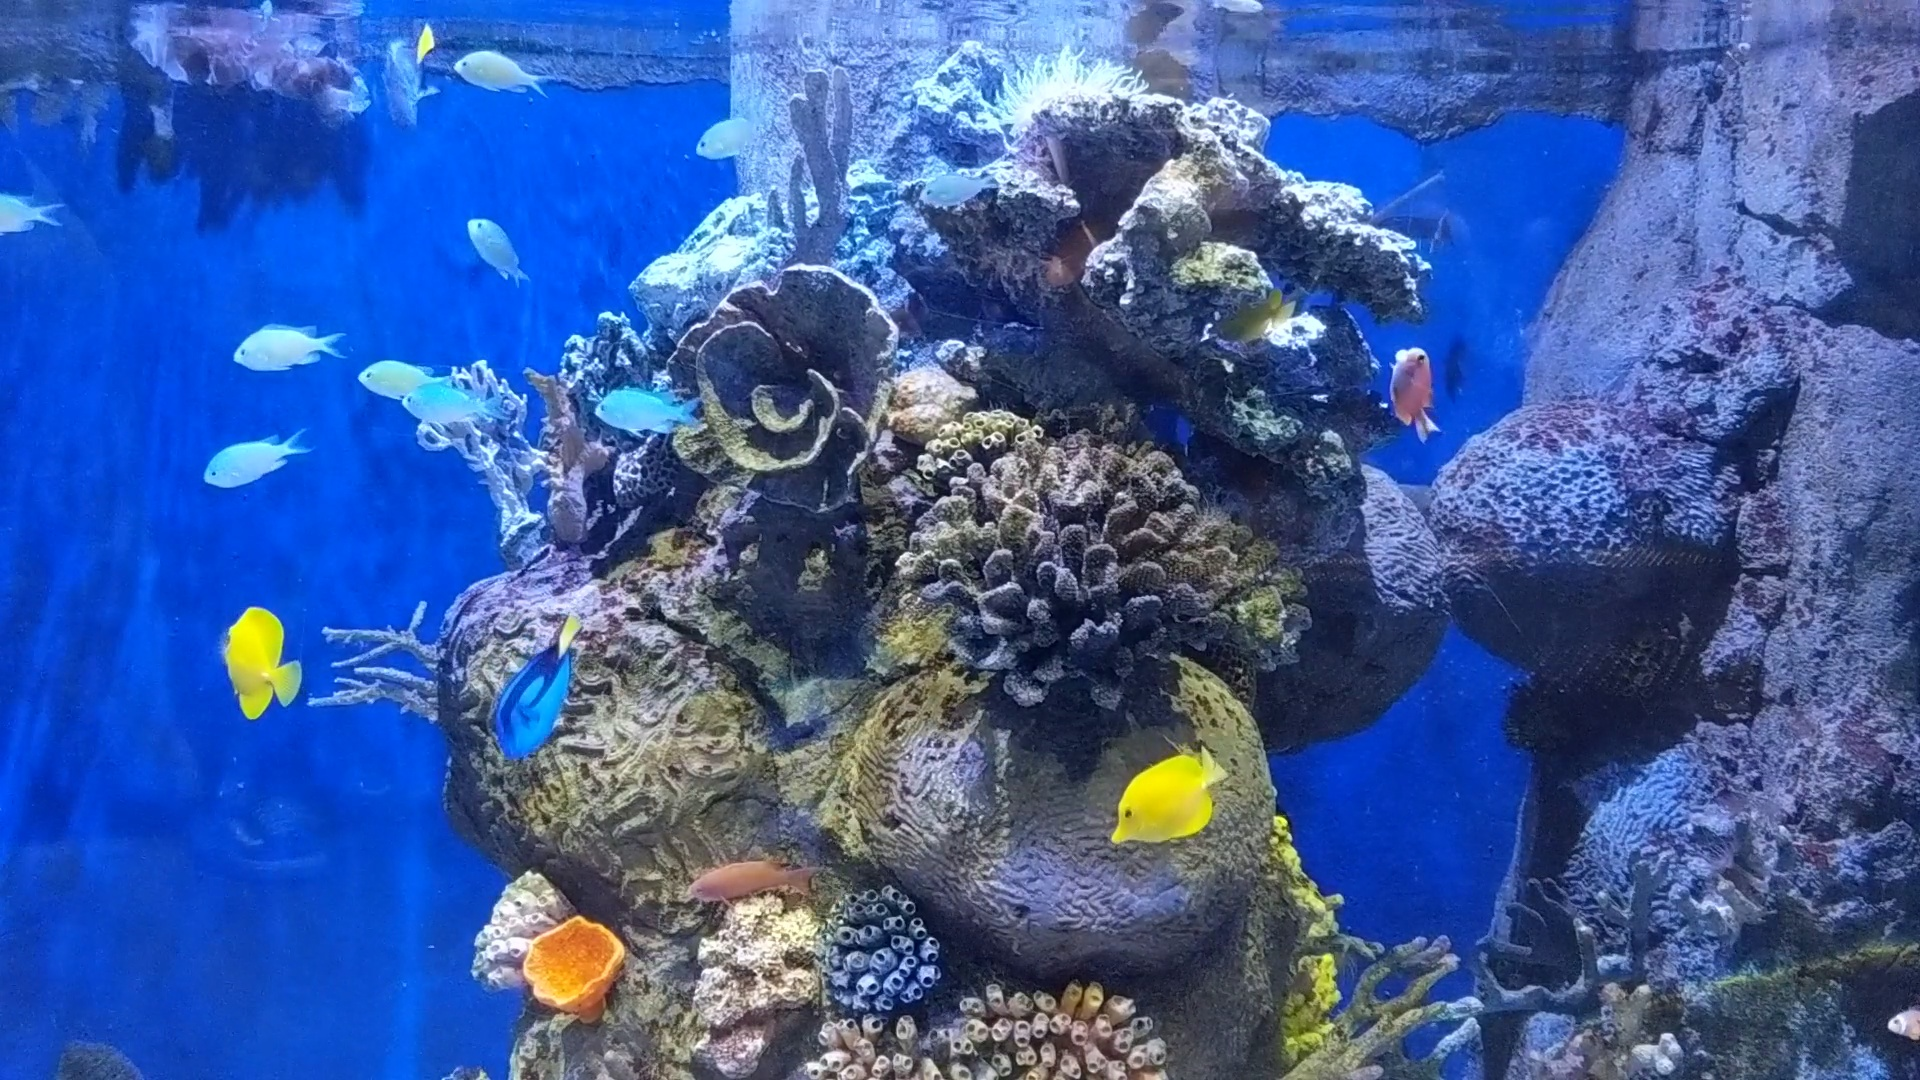blue tang surgeonfish: (484, 612, 588, 756)
damselfish: (402, 378, 516, 444), (589, 378, 698, 444), (452, 203, 534, 290), (190, 430, 314, 487), (218, 310, 330, 372), (446, 36, 541, 105), (688, 109, 775, 165), (363, 349, 438, 404)
pink fish: (1378, 328, 1452, 448)
saddle butterfly fish: (1101, 748, 1230, 858), (214, 596, 318, 723)
